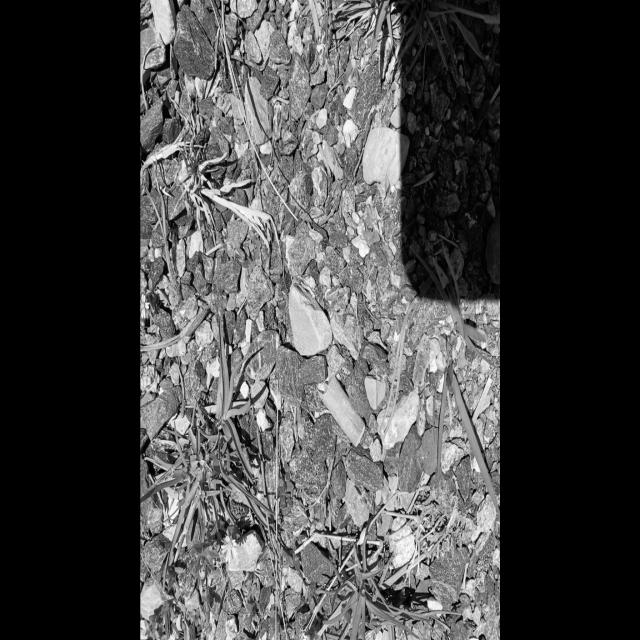other waste: (315, 366, 365, 448)
